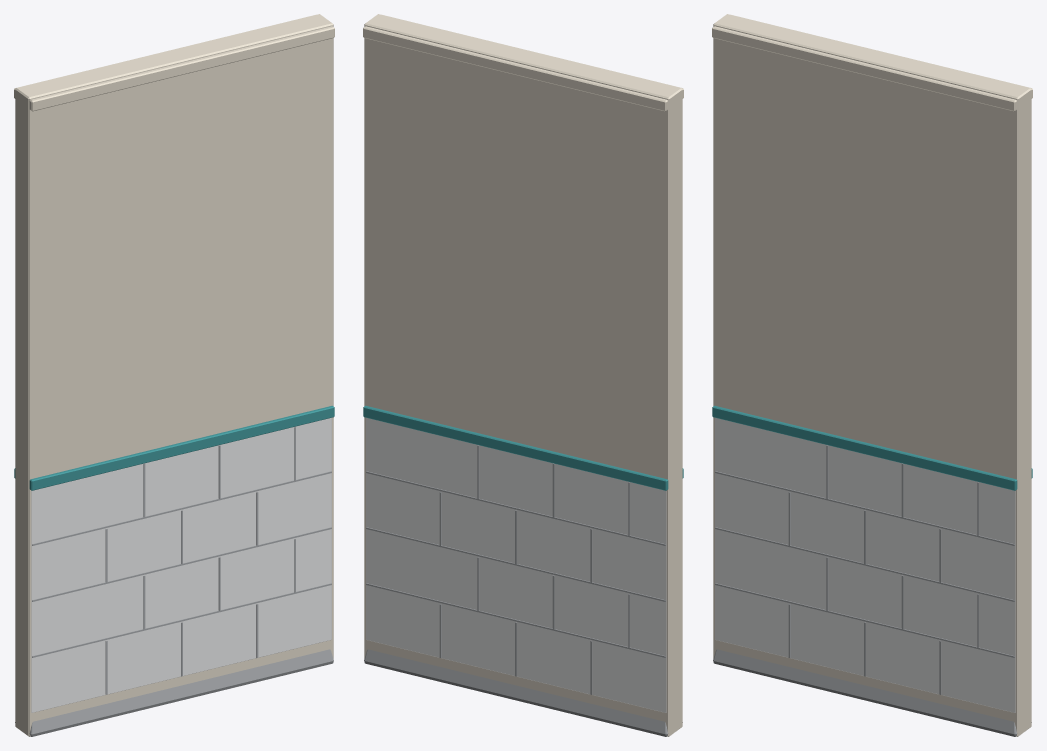
The model's file is dry-cleaners-and-alterations-shop-shop-wall-panel-modu-c1f04376__34945.glb.
The picture shows the model from 3 angles, left to right: view 1: azimuth 30°, elevation 25°; view 2: azimuth 150°, elevation 25°; view 3: azimuth 330°, elevation 25°; orthographic projection.
Visible parts, largest first — view 1: shop-wall-panel-module; view 2: shop-wall-panel-module; view 3: shop-wall-panel-module.
Part boxes in pixels (x1,y1,x2,y2): shop-wall-panel-module: (14, 14, 334, 736); shop-wall-panel-module: (363, 14, 683, 736); shop-wall-panel-module: (712, 14, 1032, 736).
Size of the model in its own units: 1.5 by 3 by 0.1578.
